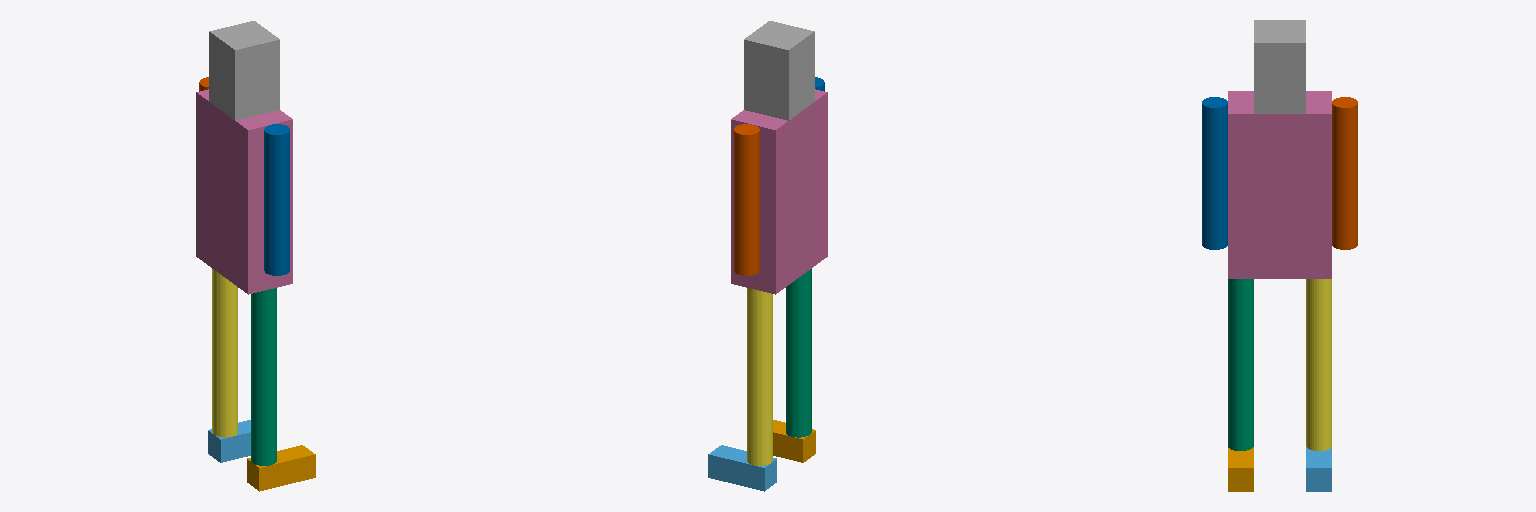
URDF robot description (simple_human):
<robot name="simple_human">
  <link name="rigth_foot">
    <inertial>
      <origin xyz="0.125 0.05 0.05"/>
      <mass value="1" />
      <inertia  ixx="100" ixy="0.0"  ixz="0.0"  iyy="100"  iyz="0.0"  izz="100" />
    </inertial>
    <visual>
      <origin xyz="0.125 0.05 0.05"/>
      <geometry>
        <box size="0.25 0.1 0.1" />
      </geometry>
    </visual>
    <collision>
      <origin xyz="0.125 0.05 0.05"/>
      <geometry>
        <box size="0.25 0.1 0.1" />
      </geometry>
    </collision>
  </link>

  <gazebo reference="rigth_foot">
    <material>Gazebo/White</material>
  </gazebo>

  <link name="left_foot">
    <inertial>
      <origin xyz="0.125 0.35 0.05"/>
      <mass value="1" />
      <inertia  ixx="100" ixy="0.0"  ixz="0.0"  iyy="100"  iyz="0.0"  izz="100" />
    </inertial>
    <visual>
      <origin xyz="0.125 0.35 0.05"/>
      <geometry>
        <box size="0.25 0.1 0.1" />
      </geometry>
    </visual>
    <collision>
      <origin xyz="0.125 0.35 0.05"/>
      <geometry>
        <box size="0.25 0.1 0.1" />
      </geometry>
    </collision>
  </link>

  <gazebo reference="left_foot">
    <material>Gazebo/White</material>
  </gazebo>

  <link name="rigth_leg">
    <inertial>
      <origin xyz="0.05 0.05 0.475"/>
      <mass value="1" />
      <inertia  ixx="100" ixy="0.0"  ixz="0.0"  iyy="100"  iyz="0.0"  izz="100" />
    </inertial>
    <visual>
      <origin xyz="0.05 0.05 0.475"/>
      <geometry>
        <cylinder radius="0.05" length="0.75" />
      </geometry>
    </visual>
    <collision>
      <origin xyz="0.05 0.05 0.475"/>
      <geometry>
        <cylinder radius="0.05" length="0.75" />
      </geometry>
    </collision>
  </link>

  <gazebo reference="rigth_leg">
    <material>Gazebo/Blue</material>
  </gazebo>

  <link name="left_leg">
    <inertial>
      <origin xyz="0.05 0.35 0.475"/>
      <mass value="1" />
      <inertia  ixx="100" ixy="0.0"  ixz="0.0"  iyy="100"  iyz="0.0"  izz="100" />
    </inertial>
    <visual>
      <origin xyz="0.05 0.35 0.475"/>
      <geometry>
        <cylinder radius="0.05" length="0.75" />
      </geometry>
    </visual>
    <collision>
      <origin xyz="0.05 0.35 0.475"/>
      <geometry>
        <cylinder radius="0.05" length="0.75" />
      </geometry>
    </collision>
  </link>

  <gazebo reference="left_leg">
    <material>Gazebo/Blue</material>
  </gazebo>

  <link name="rigth_arm">
    <inertial>
      <origin xyz="0.05 -0.05 1.25"/>
      <mass value="1" />
      <inertia  ixx="100" ixy="0.0"  ixz="0.0"  iyy="100"  iyz="0.0"  izz="100" />
    </inertial>
    <visual>
      <origin xyz="0.05 -0.05 1.25"/>
      <geometry>
        <cylinder radius="0.05" length="0.6" />
      </geometry>
    </visual>
    <collision>
      <origin xyz="0.05 -0.05 1.25"/>
      <geometry>
        <cylinder radius="0.05" length="0.6" />
      </geometry>
    </collision>
  </link>

  <gazebo reference="rigth_arm">
    <material>Gazebo/Black</material>
  </gazebo>

  <link name="left_arm">
    <inertial>
      <origin xyz="0.05 0.45 1.25"/>
      <mass value="1" />
      <inertia  ixx="100" ixy="0.0"  ixz="0.0"  iyy="100"  iyz="0.0"  izz="100" />
    </inertial>
    <visual>
      <origin xyz="0.05 0.45 1.25"/>
      <geometry>
        <cylinder radius="0.05" length="0.6" />
      </geometry>
    </visual>
    <collision>
      <origin xyz="0.05 0.45 1.25"/>
      <geometry>
        <cylinder radius="0.05" length="0.6" />
      </geometry>
    </collision>
  </link>

  <gazebo reference="left_arm">
    <material>Gazebo/Black</material>
  </gazebo>

  <link name="body">
    <inertial>
      <origin xyz="0.05 0.2 1.2"/>
      <mass value="1" />
      <inertia  ixx="100" ixy="0.0"  ixz="0.0"  iyy="100"  iyz="0.0"  izz="100" />
    </inertial>
    <visual>
      <origin xyz="0.05 0.2 1.2"/>
      <geometry>
        <box size="0.2 0.4 0.7" />
      </geometry>
    </visual>
    <collision>
      <origin xyz="0.05 0.2 1.2"/>
      <geometry>
        <box size="0.2 0.4 0.7" />
      </geometry>
    </collision>
  </link>

  <gazebo reference="body">
    <material>Gazebo/Black</material>
  </gazebo>

  <link name="head">
    <inertial>
      <origin xyz="0.05 0.2 1.7"/>
      <mass value="1" />
      <inertia  ixx="100" ixy="0.0"  ixz="0.0"  iyy="100"  iyz="0.0"  izz="100" />
    </inertial>
    <visual>
      <origin xyz="0.05 0.2 1.7"/>
      <geometry>
        <box size="0.2 0.2 0.3" />
      </geometry>
    </visual>
    <collision>
      <origin xyz="0.05 0.2 1.7"/>
      <geometry>
        <box size="0.2 0.2 0.3" />
      </geometry>
    </collision>
  </link>

  <gazebo reference="head">
    <material>Face</material>
  </gazebo>

  <joint name="rigth_ankle" type="fixed">
    <parent link="rigth_leg"/>
    <child link="rigth_foot"/>
  </joint>

  <joint name="left_ankle" type="fixed">
    <parent link="left_leg"/>
    <child link="left_foot"/>
  </joint>
  
  <joint name="rigth_hip" type="fixed">
    <parent link="body"/>
    <child link="rigth_leg"/>
  </joint>

  <joint name="left_hip" type="fixed">
    <parent link="body"/>
    <child link="left_leg"/>
  </joint>

  <joint name="rigth_shoulder" type="fixed">
    <parent link="body"/>
    <child link="rigth_arm"/>
  </joint>

  <joint name="left_shoulder" type="fixed">
    <parent link="body"/>
    <child link="left_arm"/>
  </joint>

  <joint name="neck" type="fixed">
    <parent link="body"/>
    <child link="head"/>
  </joint>
</robot>

--- Render facts (derived) ---
3 views of the same robot in one strip: view 1: azimuth 30°, elevation 25°; view 2: azimuth 150°, elevation 25°; view 3: azimuth 270°, elevation 25° (orthographic).
Robot: simple_human — 8 links, 7 joints (7 fixed); root link body; default pose: every joint at zero.
Links seen in each view (by area): view 1: body, head, rigth_leg, left_leg, rigth_arm, rigth_foot, left_foot; view 2: body, head, left_leg, rigth_leg, left_arm, left_foot, rigth_foot; view 3: body, head, rigth_leg, left_leg, rigth_arm, left_arm, rigth_foot, left_foot.
Boxes of the visible links, left/top/right/bottom form: body: left=196, top=89, right=292, bottom=294; head: left=209, top=21, right=279, bottom=120; rigth_leg: left=251, top=288, right=276, bottom=465; left_leg: left=212, top=269, right=237, bottom=437; rigth_arm: left=264, top=124, right=289, bottom=275; rigth_foot: left=247, top=445, right=315, bottom=491; left_foot: left=208, top=420, right=250, bottom=462; body: left=731, top=89, right=827, bottom=294; head: left=744, top=21, right=814, bottom=120; left_leg: left=747, top=288, right=772, bottom=465; rigth_leg: left=786, top=269, right=811, bottom=437; left_arm: left=734, top=124, right=759, bottom=275; left_foot: left=708, top=445, right=776, bottom=491; rigth_foot: left=773, top=420, right=815, bottom=462; body: left=1228, top=91, right=1331, bottom=278; head: left=1254, top=20, right=1305, bottom=113; rigth_leg: left=1228, top=279, right=1253, bottom=450; left_leg: left=1306, top=279, right=1331, bottom=450; rigth_arm: left=1202, top=97, right=1227, bottom=249; left_arm: left=1332, top=97, right=1357, bottom=249; rigth_foot: left=1228, top=447, right=1253, bottom=491; left_foot: left=1306, top=447, right=1331, bottom=491.
Size in the robot's own frame: 0.3 by 0.6 by 1.85 metres.
Geometry: primitives only (box / cylinder / sphere), no mesh files.
